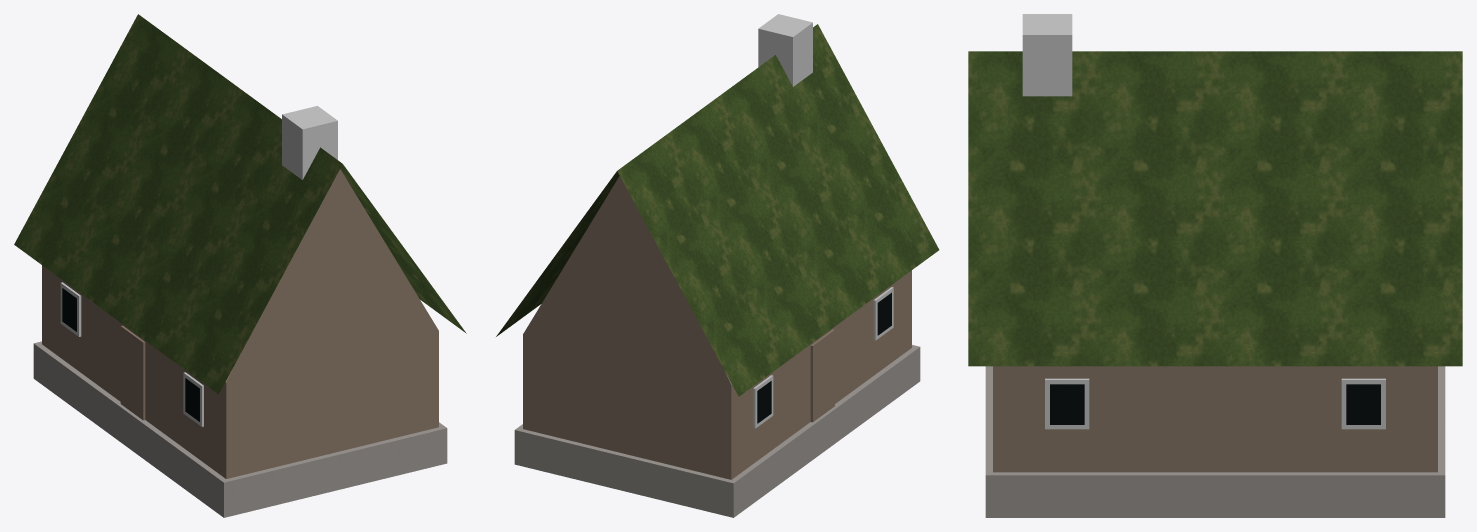
Rendered from SM_Art_Settlement_Nordic_3.gltf.
3 renders of one model, left to right at view 1: azimuth 30°, elevation 25°; view 2: azimuth 150°, elevation 25°; view 3: azimuth 270°, elevation 25°, orthographic. The views are drawn at different scales.
Parts seen in each view (by area): view 1: SM_Art_Settlement_Nordic_3; view 2: SM_Art_Settlement_Nordic_3; view 3: SM_Art_Settlement_Nordic_3.
Part boxes in pixels (x1,y1,x2,y2): SM_Art_Settlement_Nordic_3: [14, 14, 466, 517]; SM_Art_Settlement_Nordic_3: [496, 14, 939, 517]; SM_Art_Settlement_Nordic_3: [968, 14, 1462, 517].
Bounding box in the file's own units: 7 × 9.55 × 10.
